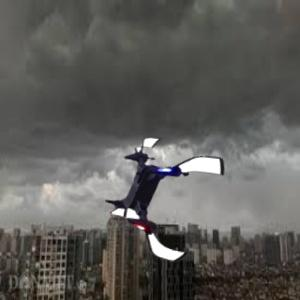drone: (100, 137, 228, 265)
